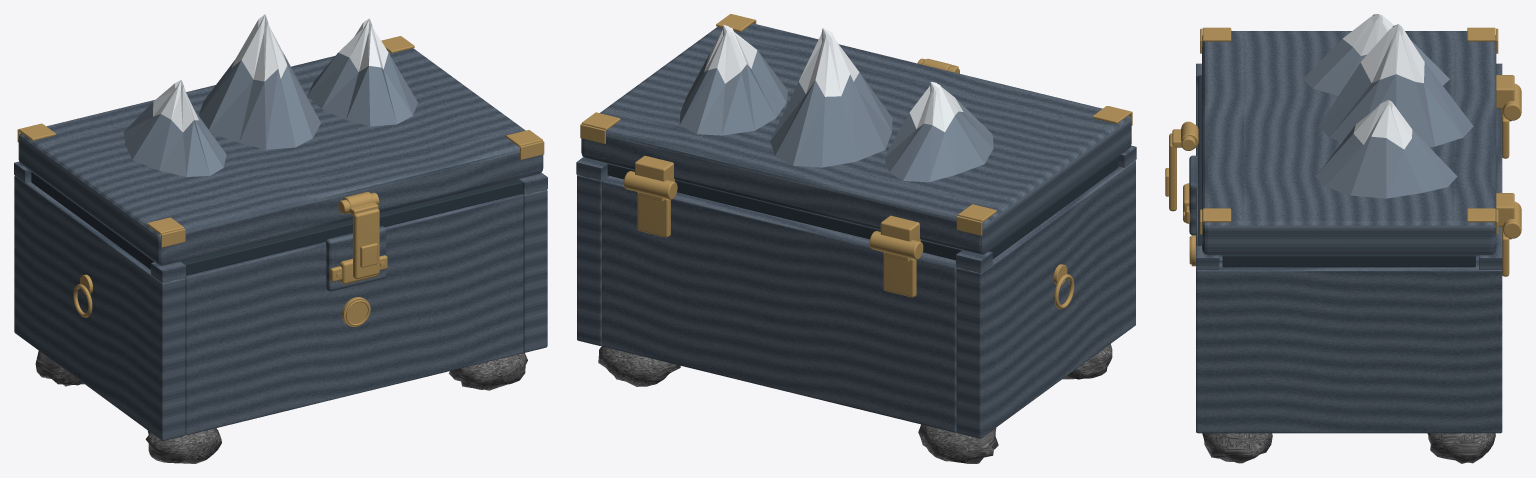
Rendered from nepal.glb.
The picture shows the model from 3 angles, left to right: view 1: azimuth 30°, elevation 25°; view 2: azimuth 150°, elevation 25°; view 3: azimuth 270°, elevation 25°; orthographic projection. The views are drawn at different scales.
Parts seen in each view (by area): view 1: Slate / front rear, Lid / polished slab, Slate / sides, Mountain / 2, Mountain / 3, Mountain / 1, Mineral seam / long, Slate / sides.001, Granite foot, Granite foot.002, Slate / clasp seat, Latch / lifting hasp (+4 smaller); view 2: Slate / front rear.001, Lid / polished slab, Slate / sides, Mountain / 2, Mountain / 3, Mountain / 1, Slate / sides.001, Mineral seam / long.001, Granite foot.001, Granite foot.003, Mineral seam / side, Hinge / fixed mount (+8 smaller); view 3: Slate / sides.001, Lid / polished slab, Mountain / 2, Mountain / 3, Mountain / 1, Mineral seam / side.001, Granite foot.002, Granite foot.003, Slate / front rear.001, Slate / clasp seat, Mineral seam / long, Hinge / moving leaf (+10 smaller).
Part boxes in pixels (x1,y1,x2,y2): Slate / front rear: (185, 194, 523, 435); Lid / polished slab: (18, 48, 543, 265); Slate / sides: (14, 175, 185, 440); Mountain / 2: (198, 14, 320, 149); Mountain / 3: (307, 18, 417, 126); Mountain / 1: (123, 79, 226, 176); Mineral seam / long: (180, 179, 522, 275); Slate / sides.001: (521, 189, 547, 352); Granite foot: (145, 428, 221, 463); Granite foot.002: (449, 352, 527, 390); Slate / clasp seat: (326, 226, 386, 291); Latch / lifting hasp: (353, 208, 379, 279); Slate / front rear.001: (602, 176, 956, 432); Lid / polished slab: (581, 23, 1131, 254); Slate / sides: (956, 160, 1135, 438); Mountain / 2: (770, 28, 892, 167); Mountain / 3: (679, 24, 787, 135); Mountain / 1: (884, 82, 993, 182); Slate / sides.001: (577, 175, 608, 345); Mineral seam / long.001: (607, 164, 961, 260); Granite foot.001: (918, 424, 998, 463); Granite foot.003: (598, 346, 680, 386); Mineral seam / side: (989, 157, 1118, 258); Hinge / fixed mount: (883, 252, 916, 297); Slate / sides.001: (1196, 262, 1502, 433); Lid / polished slab: (1202, 31, 1496, 255); Mountain / 2: (1319, 24, 1473, 147); Mountain / 3: (1315, 100, 1457, 198); Mountain / 1: (1303, 14, 1449, 95); Mineral seam / side.001: (1222, 255, 1475, 267); Granite foot.002: (1202, 433, 1272, 463); Granite foot.003: (1427, 433, 1495, 463); Slate / front rear.001: (1496, 108, 1502, 245); Slate / clasp seat: (1189, 155, 1198, 235); Mineral seam / long: (1198, 75, 1201, 245); Hinge / moving leaf: (1496, 75, 1514, 108).
Size of the model in its own units: 3.79 by 3.24 by 2.88.
Materials: 6 (2 with a texture image).
